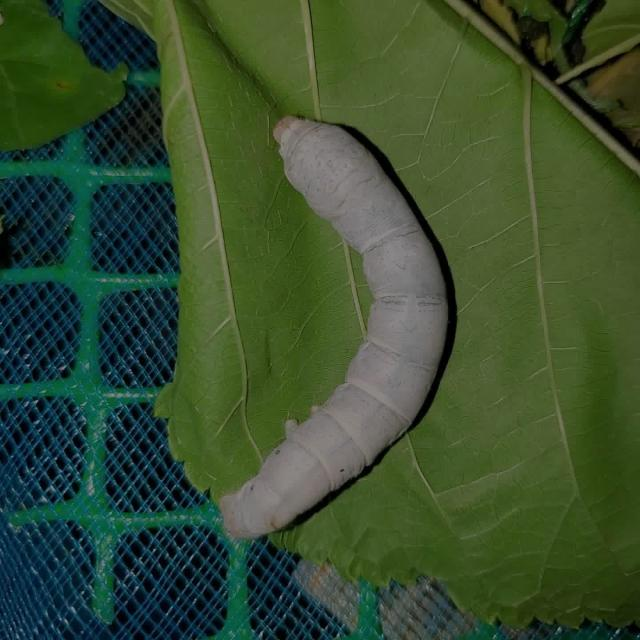Healthy: (208, 111, 464, 545)
